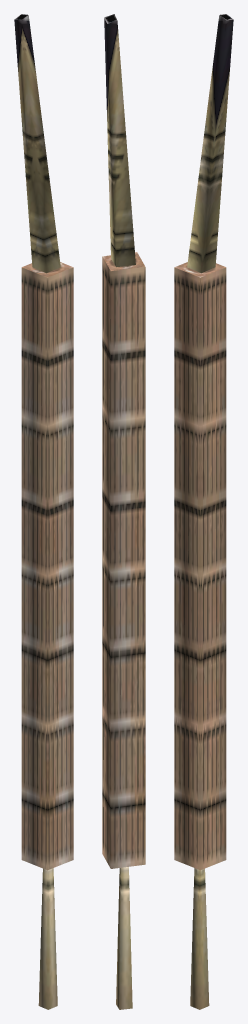
The model's file is eqp_music_fanfar_l2.fbx.
3 views of the same model, side by side, from view 1: azimuth 90°, elevation 25°; view 2: azimuth 150°, elevation 25°; view 3: azimuth 270°, elevation 25° (orthographic).
Visible parts, largest first — view 1: mesh_node; view 2: mesh_node; view 3: mesh_node.
Boxes of the visible parts, left/top/right/bottom form: mesh_node: left=14, top=14, right=73, bottom=1009; mesh_node: left=102, top=14, right=145, bottom=1009; mesh_node: left=174, top=14, right=233, bottom=1009.
Size of the model in its own units: 0.0255 by 0.5672 by 0.0308.
1 material, 1 textured.
